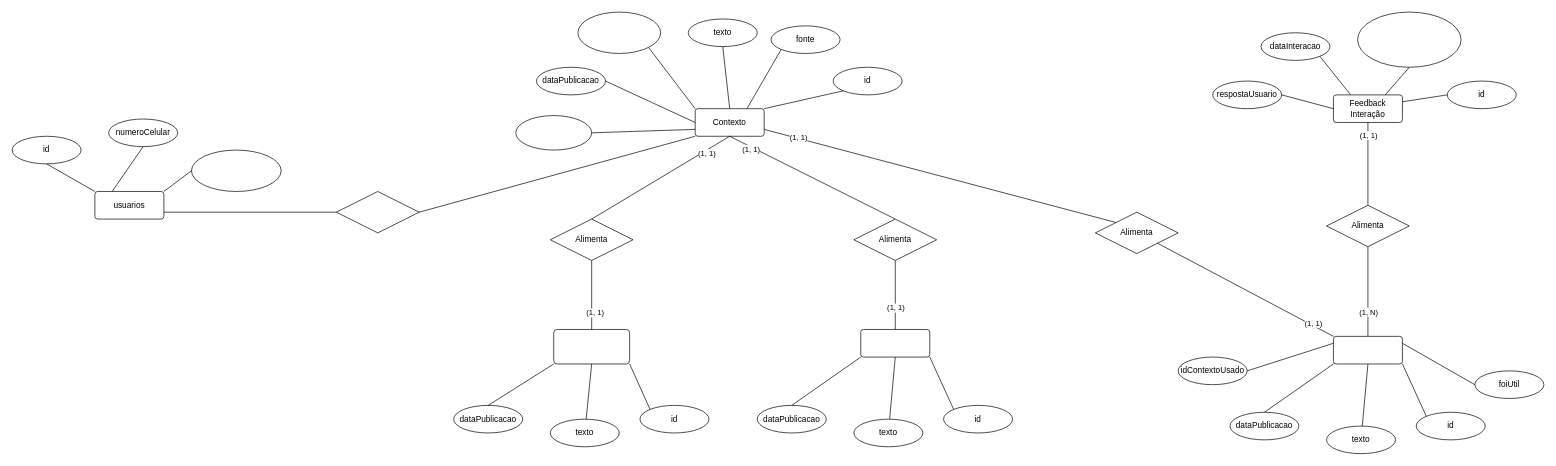
Some shapes in this 1556 by 466 pixel diagram are drawn without their labels. The shapes that lost their labels are listed below. From the top down, each one's centre as x and y in pixels, then its label:
the point at 619,32: quantidadeUso
the point at 1409,39: informacoesForamUteis
the point at 553,132: quantidadeApoios
the point at 236,170: aceitaReceberAlertas
the point at 377,212: utiliza
the point at 591,346: Base TST Processos e normas
the point at 895,343: Base de scrapping
the point at 1367,350: Base de Feedbacks de uso
